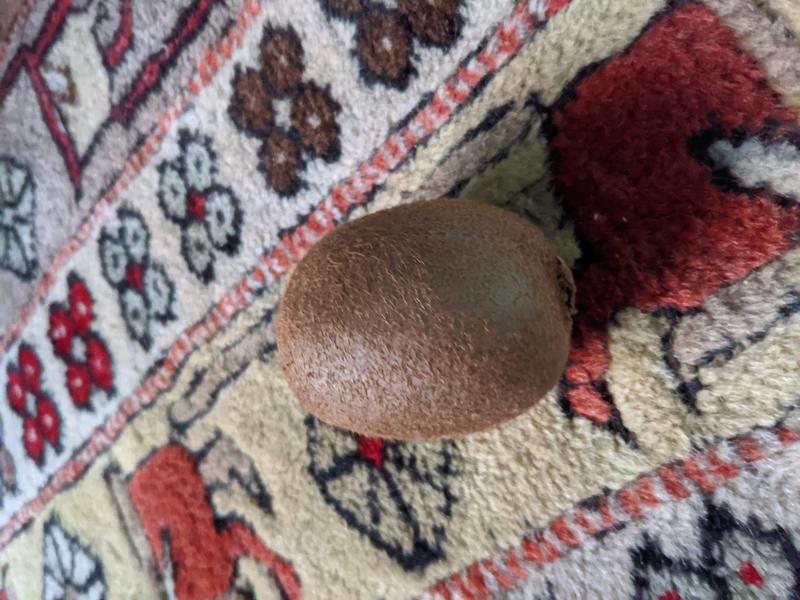kiwi: (274, 196, 578, 443)
